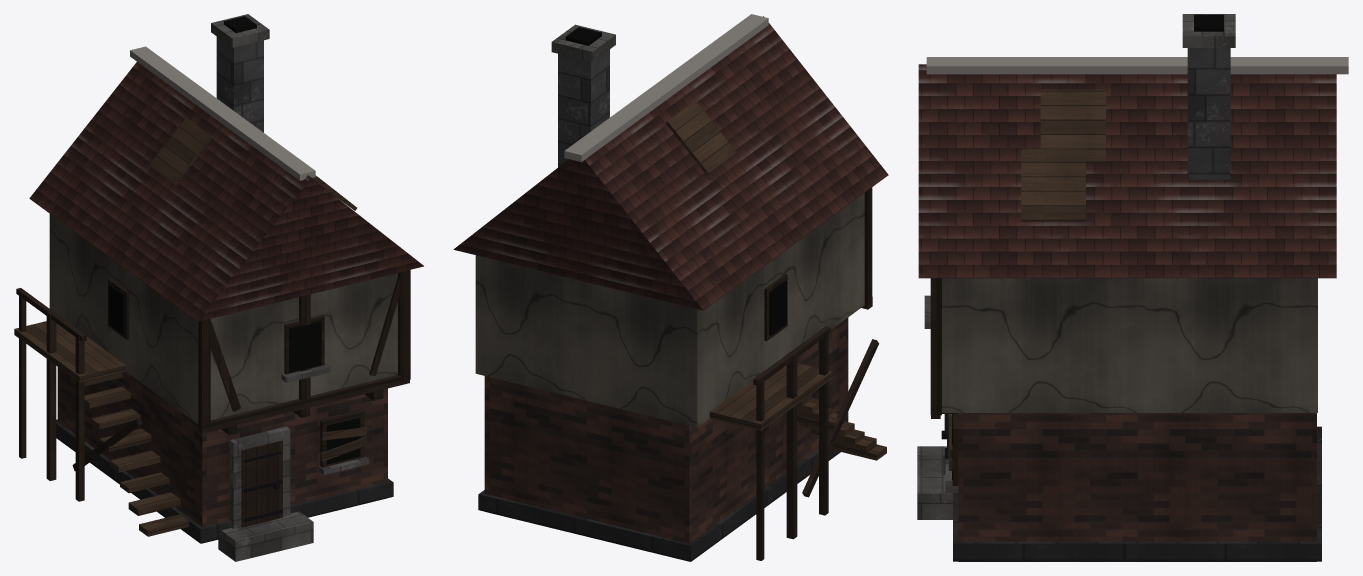
File: CasaS01.gltf
The picture shows the model from 3 angles, left to right: view 1: azimuth 30°, elevation 25°; view 2: azimuth 150°, elevation 25°; view 3: azimuth 270°, elevation 25°; orthographic projection. The views are drawn at different scales.
Parts seen in each view (by area): view 1: CasaS01; view 2: CasaS01; view 3: CasaS01.
Part boxes in pixels (left/top/right/bottom): CasaS01: left=14, top=14, right=423, bottom=561; CasaS01: left=453, top=14, right=888, bottom=561; CasaS01: left=917, top=14, right=1348, bottom=561.
Size of the model in its own units: 6.49 by 10.06 by 7.48.
11 materials, 8 textured.
